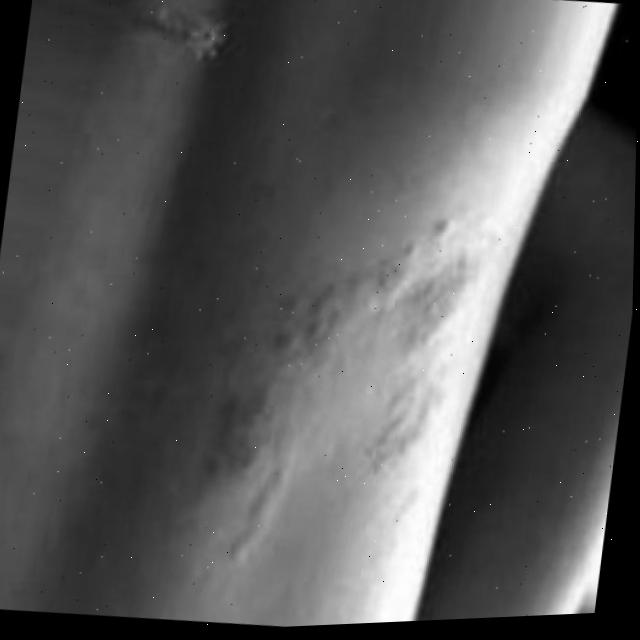Shingles: (197, 240, 460, 517)
